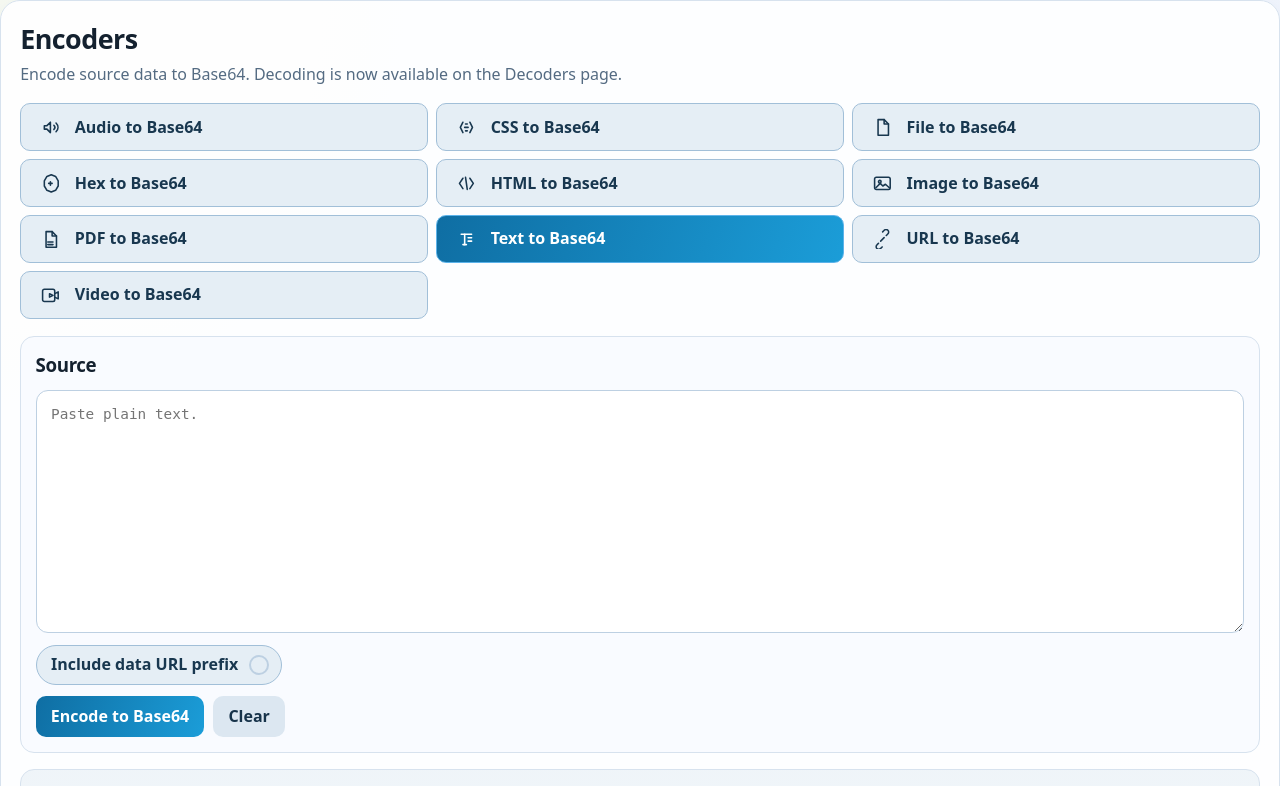
EncodersPage › clears the previously selected file when a new URL load fails
Click the button "File to Base64" at (961, 127), box [852,103,1260,151]
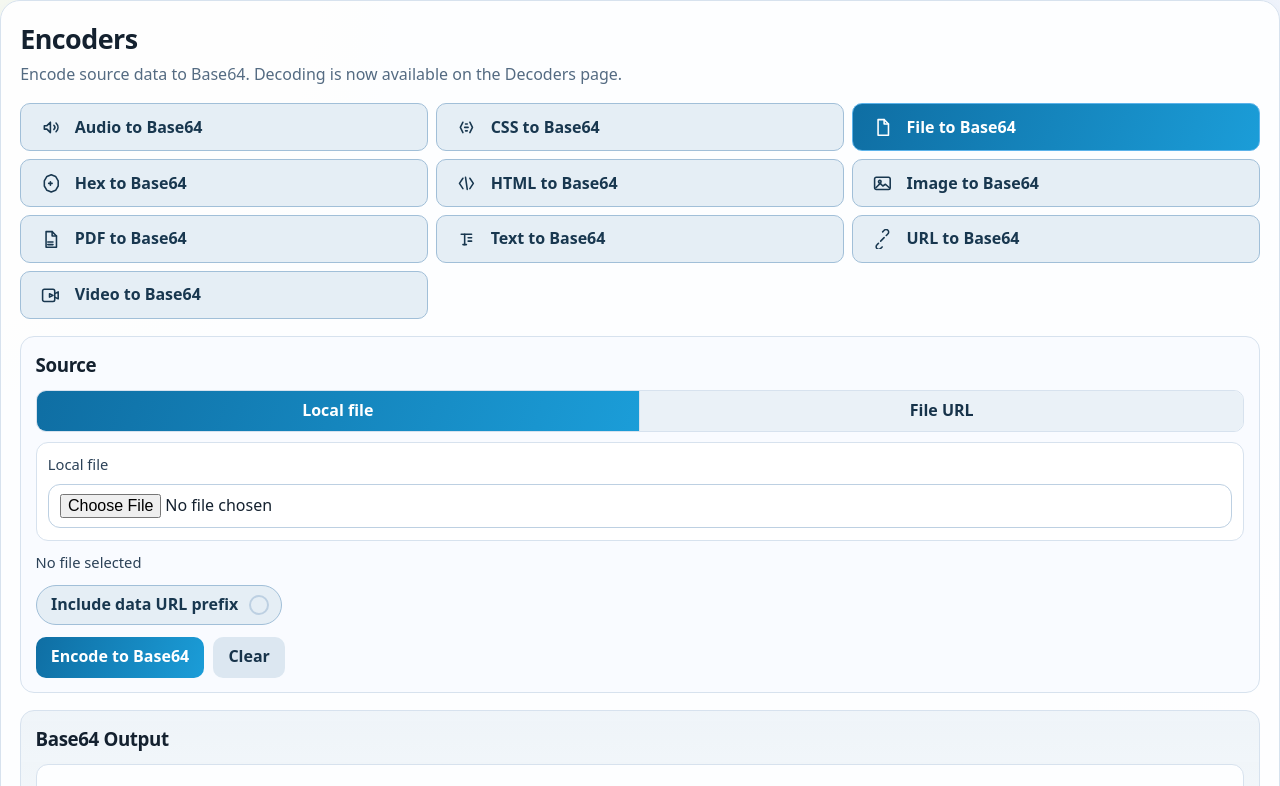
Click the button "File URL" at (942, 411), box [640,391,1243,431]
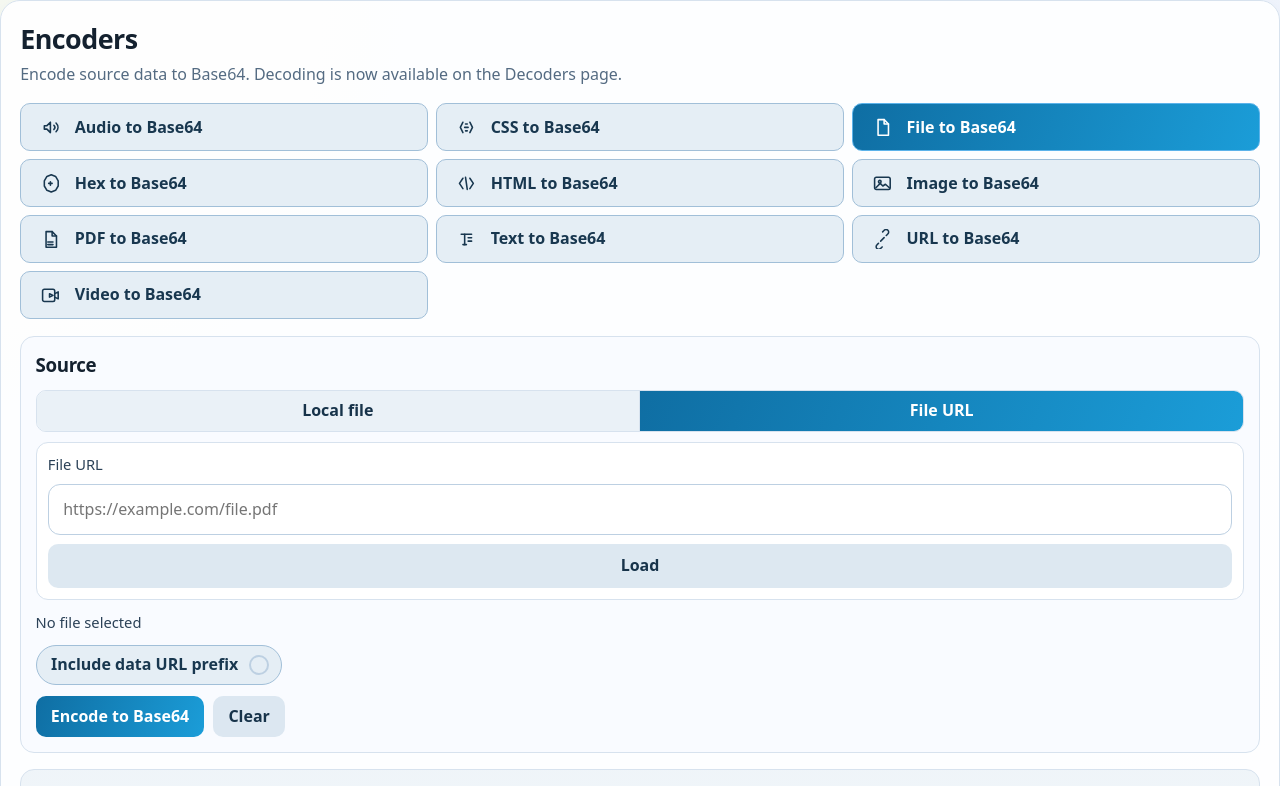
Type "https://example.com/one.txt" into the field with placeholder "https://example.com/file.pdf" at (640, 510), box [48,484,1232,535]
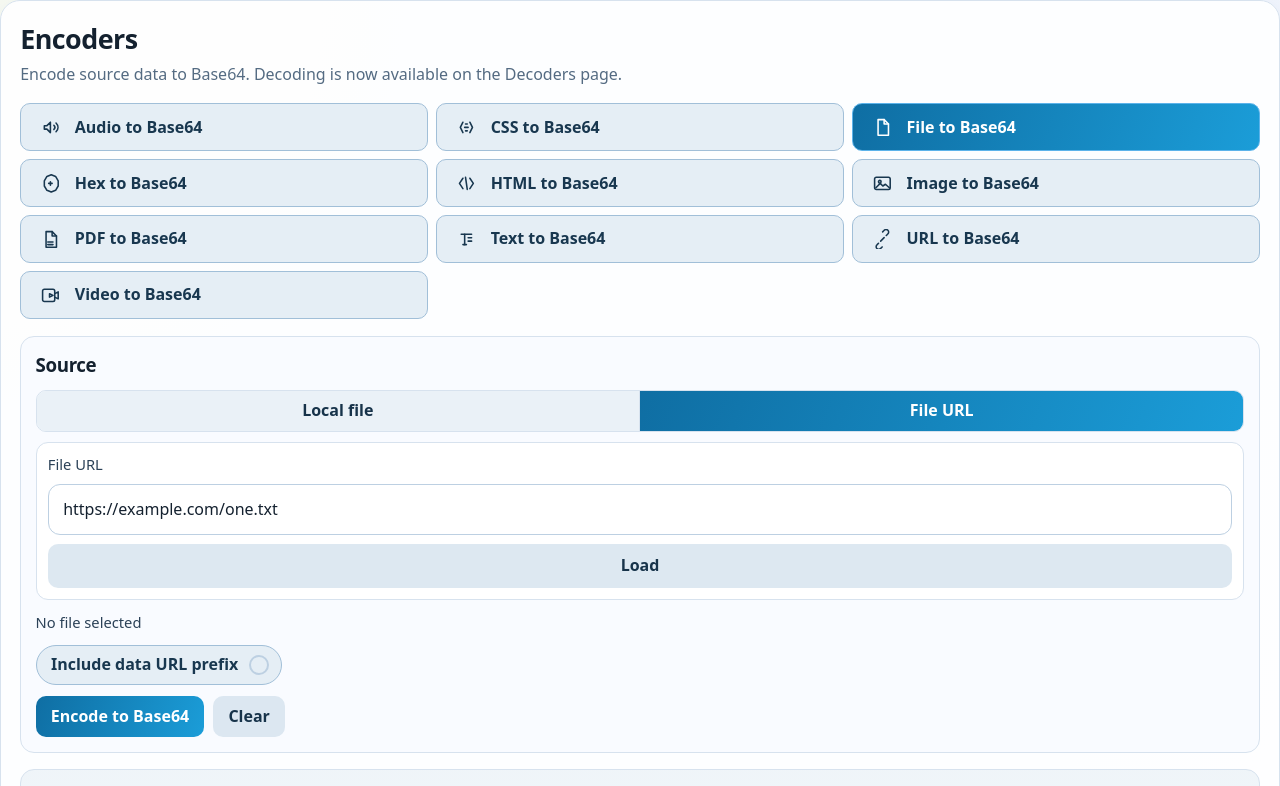
Click the button "Load" at (640, 566), box [48,544,1232,588]
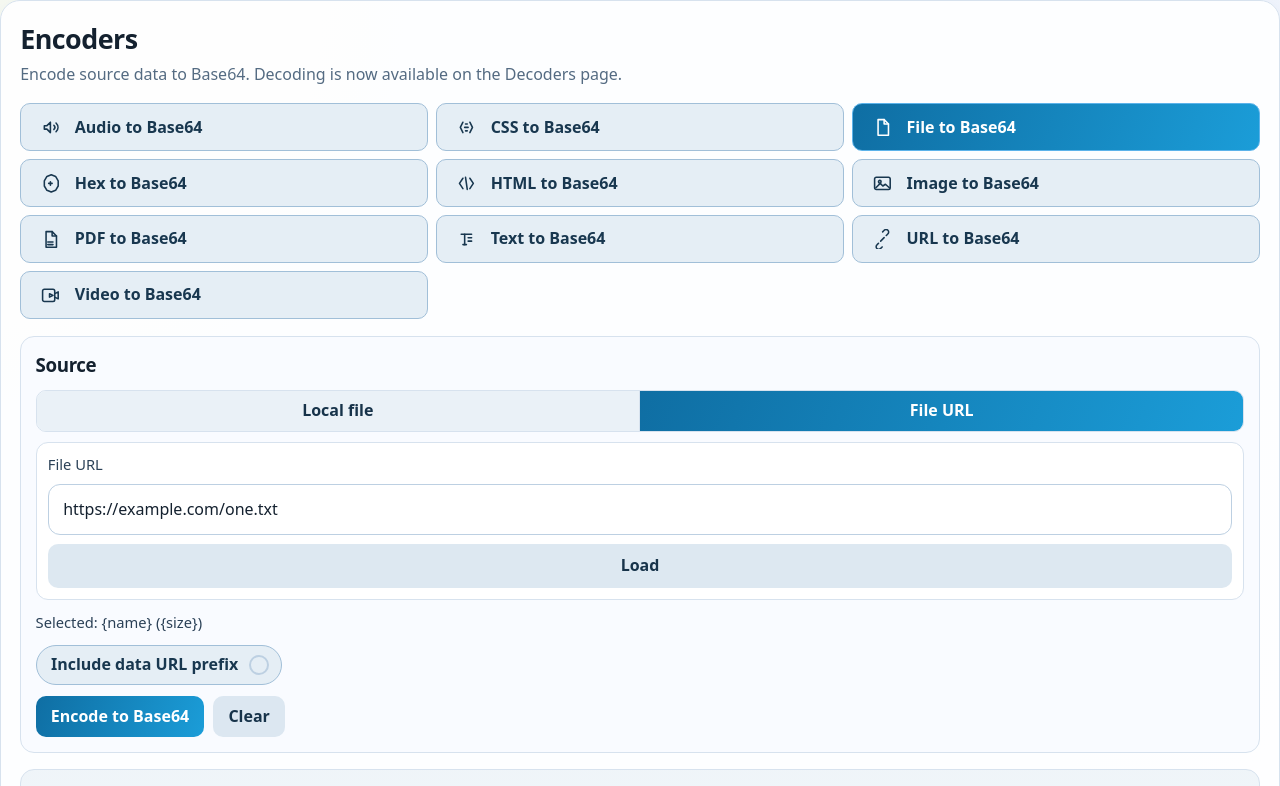
Expected: the text "No file selected" is gone
Replace the text in the field with placeholder "https://example.com/file.pdf" with "https://example.com/two.txt" at (640, 510), box [48,484,1232,535]
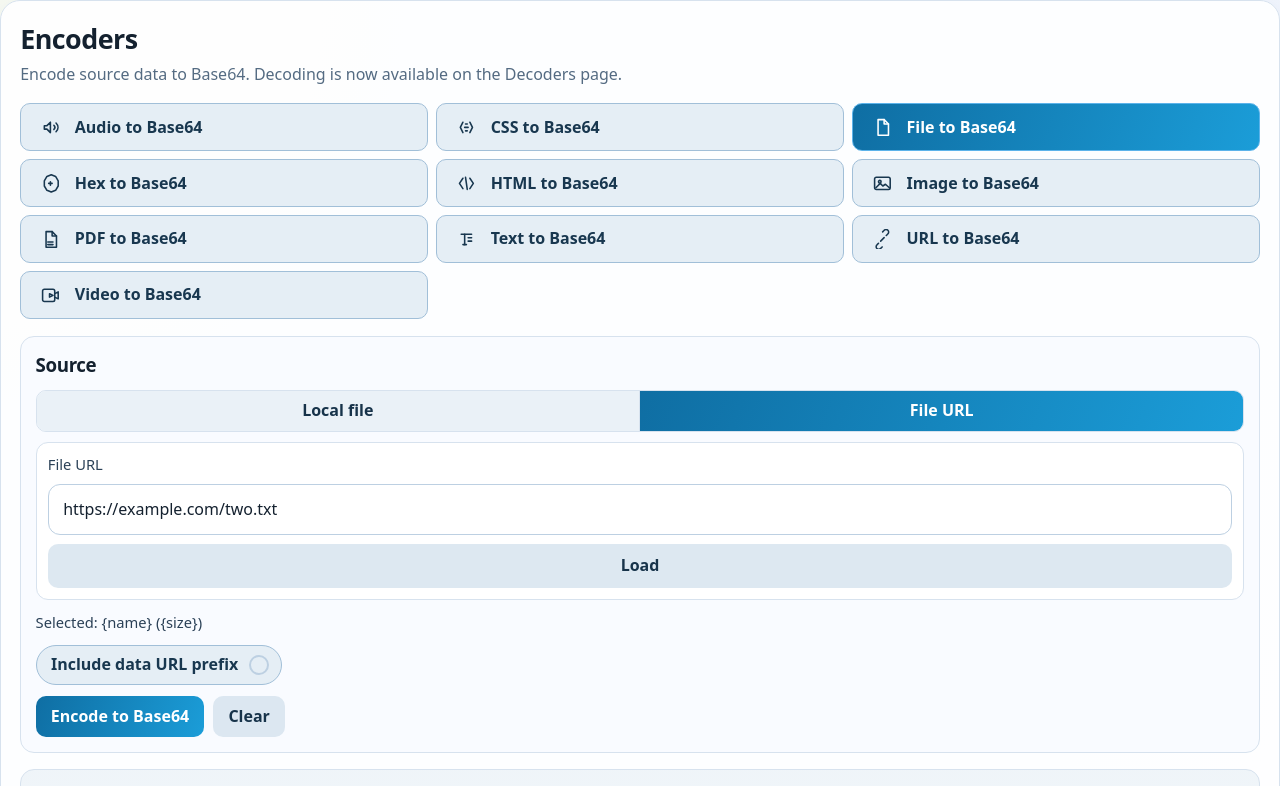
Click the button "Load" at (640, 566), box [48,544,1232,588]
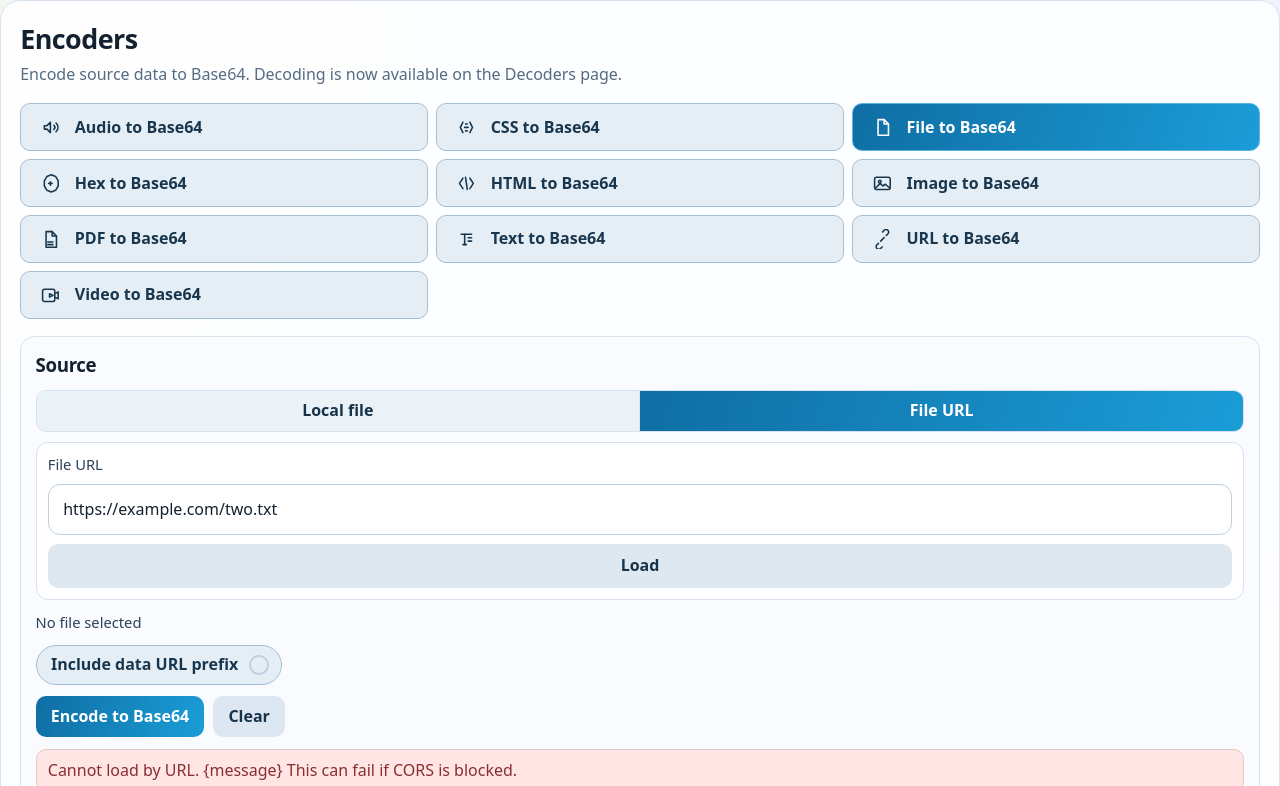
Expected: the text "No file selected" is shown, [36,612,142,632]
